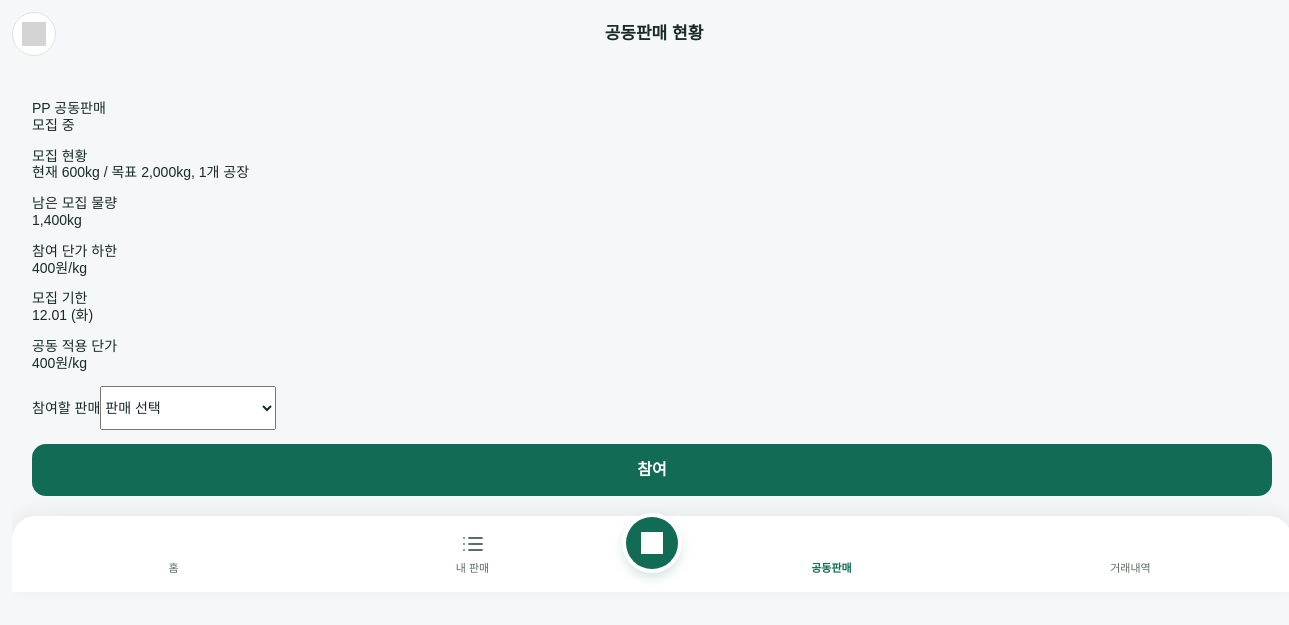
Test: 1 찾기 → 공개 상세 → 판매 선택 → 참여, 서버 단가 하한 거부 표시 후 성공
Earlier steps of the test are not shown.
Expected: the text "모집 현황" is shown, [32, 148, 87, 164]
Select "520kg, 380원/kg, 판매 55" in the dropdown labelled "참여할 판매" at (188, 408), box [100, 386, 276, 430]
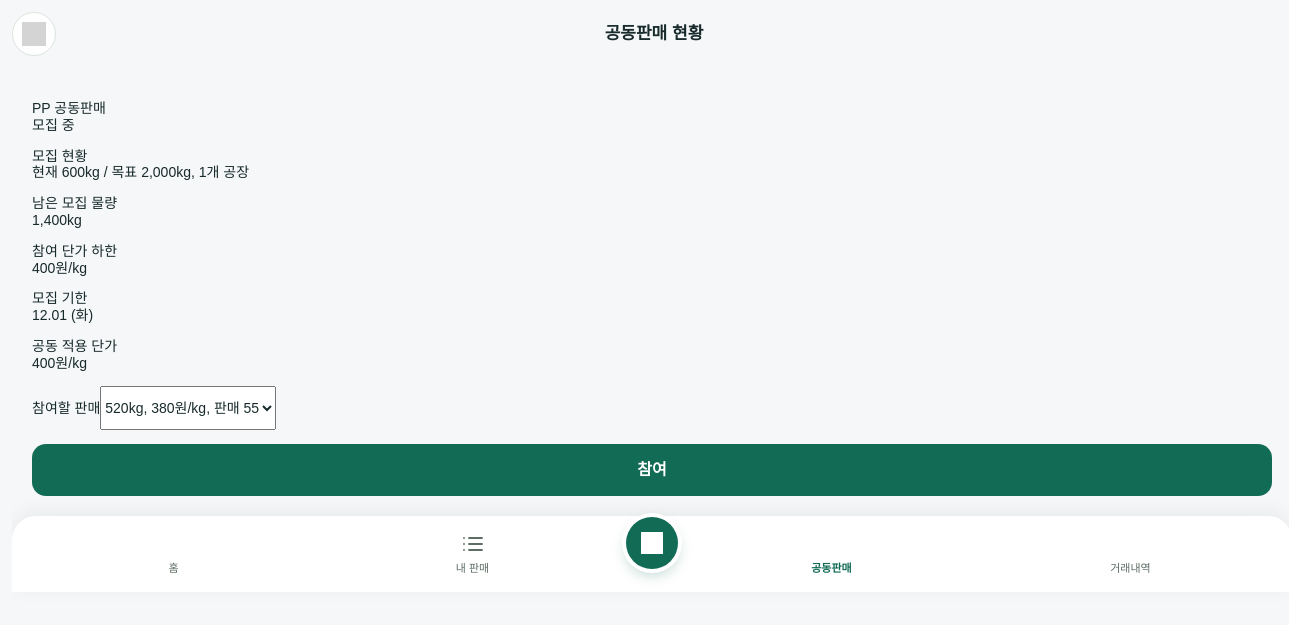
Click the button "참여".
click(652, 470)  # box [32, 444, 1272, 496]
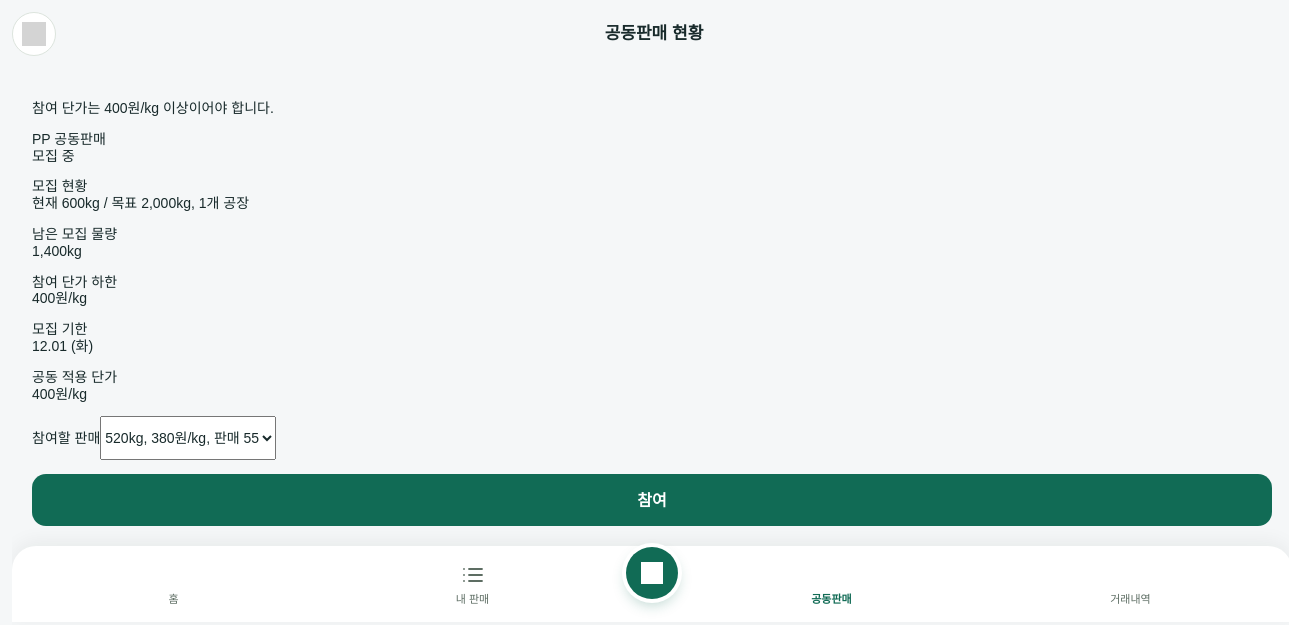
Now the text "참여 단가는 400원/kg 이상이어야 합니다." is shown, box [32, 100, 274, 116]
Click the button "참여".
click(652, 500)  # box [32, 474, 1272, 526]
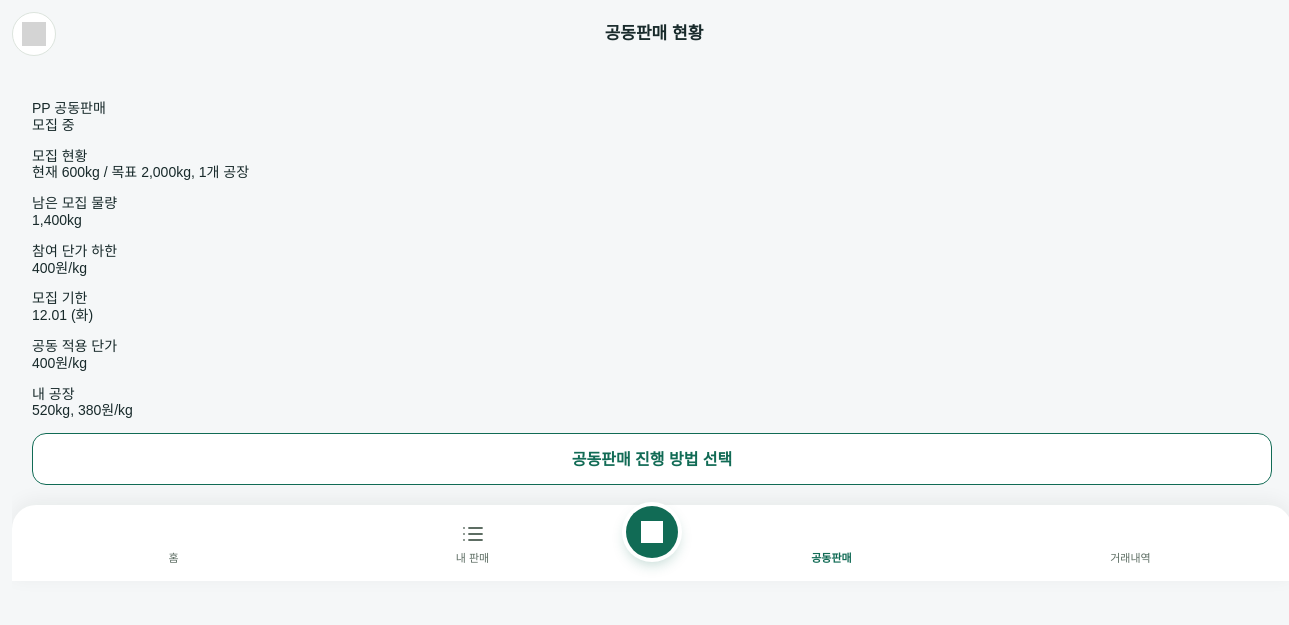
Now the text "내 공장" is shown, box [32, 386, 74, 402]
